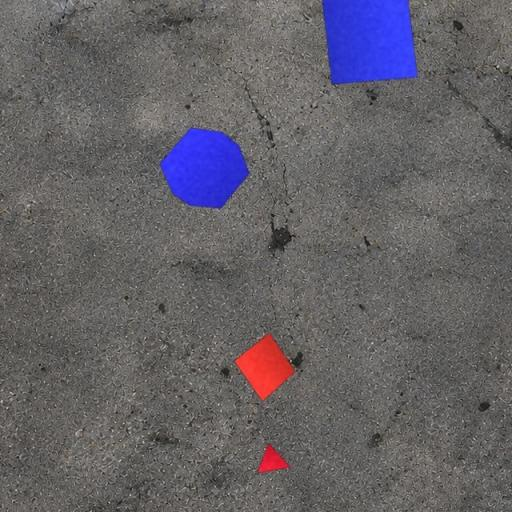BLUE_SQUARE: (321, 0, 418, 85)
RED_SQUARE: (234, 332, 296, 402)
